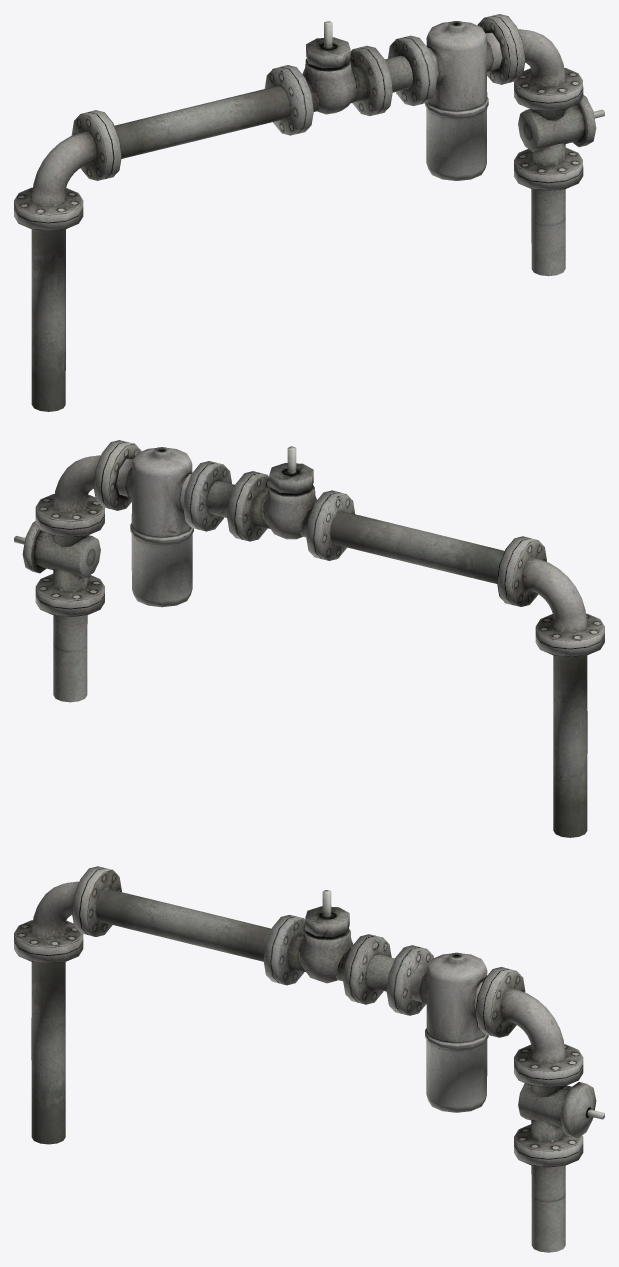
The model's file is SM_gaspipes_02.fbx.
3 views of the same model, one above another, from view 1: azimuth 30°, elevation 25°; view 2: azimuth 150°, elevation 25°; view 3: azimuth 330°, elevation 25° (orthographic).
Parts seen in each view (by area): view 1: SM_gaspipes_02; view 2: SM_gaspipes_02; view 3: SM_gaspipes_02.
Boxes of the visible parts, x1,y1,x2,y2 form: SM_gaspipes_02: [14, 14, 604, 411]; SM_gaspipes_02: [14, 440, 604, 837]; SM_gaspipes_02: [14, 866, 604, 1252].
Size of the model in its own units: 317 by 33.13 by 163.
Materials: 1 (1 with a texture image).
